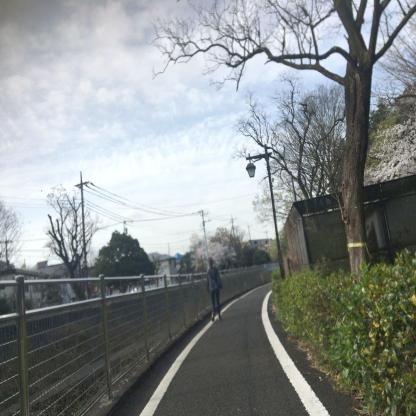Someiyoshino: (356, 118, 416, 191), (186, 239, 237, 276)
